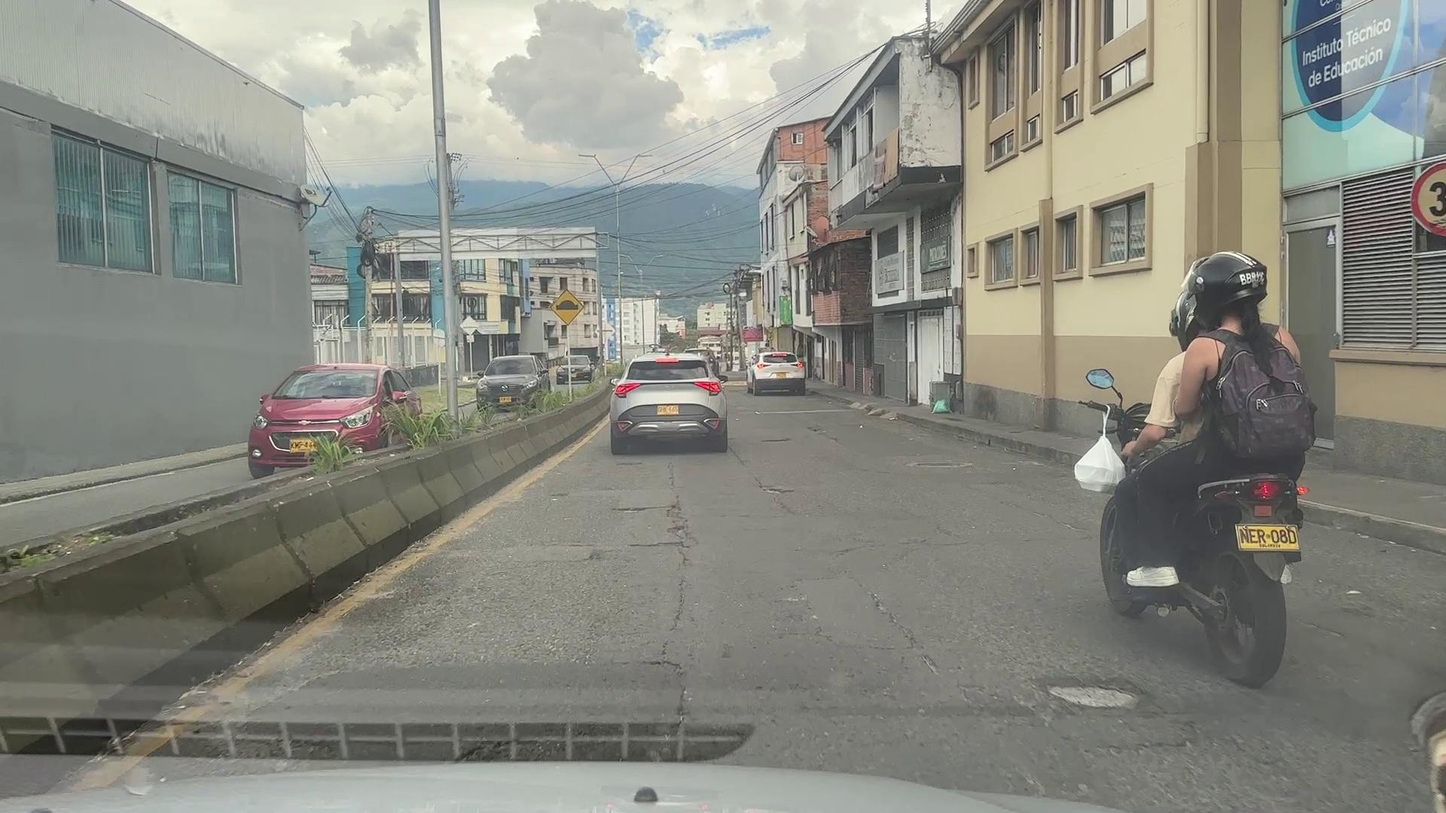bache: (1049, 687, 1137, 708), (611, 506, 668, 513), (763, 487, 790, 494)
grieta: (641, 637, 686, 739), (628, 503, 697, 548), (670, 547, 689, 632)
registro: (916, 463, 964, 466)
